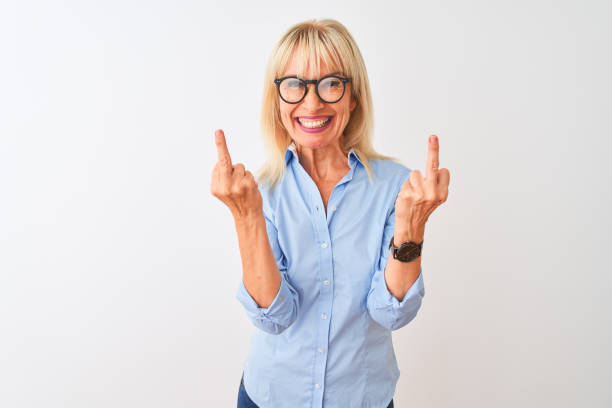insulting_gesture: (394, 134, 451, 231), (207, 129, 265, 218)
